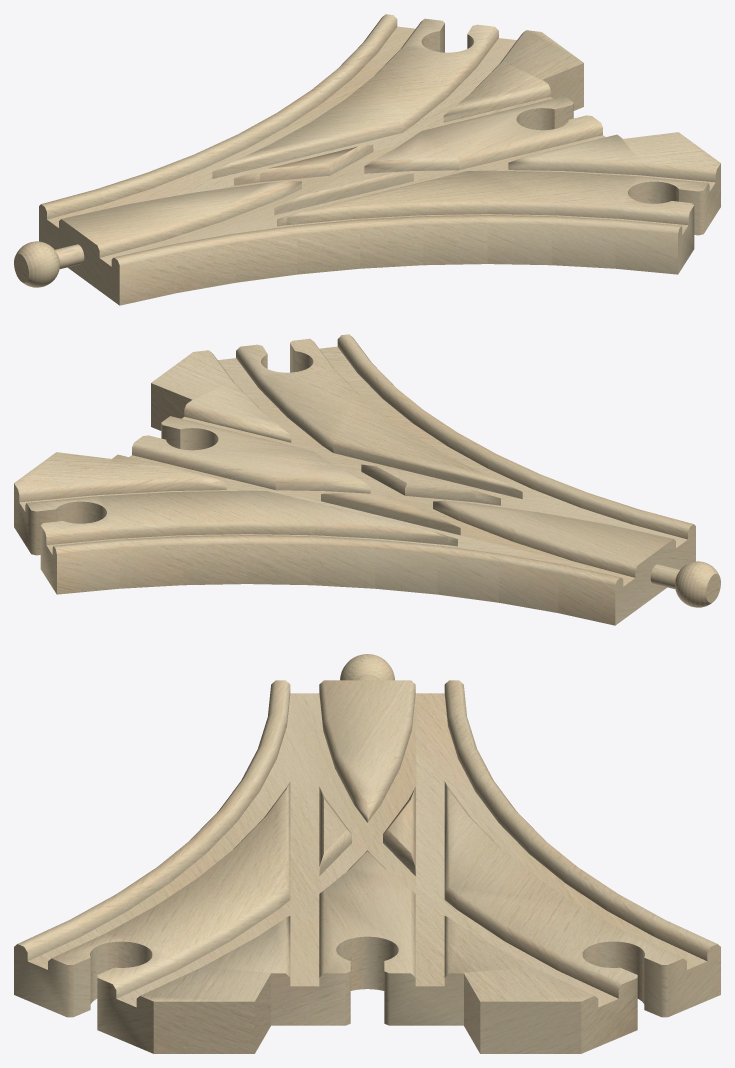
3 views of the same model, one above another, from view 1: azimuth 30°, elevation 25°; view 2: azimuth 150°, elevation 25°; view 3: azimuth 270°, elevation 25° (orthographic). The views are drawn at different scales.
Parts seen in each view (by area): view 1: SketchUp (×3), _3d_peg; view 2: SketchUp (×3), _3d_peg; view 3: SketchUp (×3), _3d_peg.
Boxes of the visible parts, x1,y1,x2,y2 form: SketchUp (×3): (39, 14, 720, 305); _3d_peg: (14, 241, 84, 287); SketchUp (×3): (14, 334, 695, 625); _3d_peg: (650, 561, 720, 607); SketchUp (×3): (14, 680, 720, 1053); _3d_peg: (340, 654, 394, 680).
Bounding box in the file's own units: 6.87 × 5.78 × 0.4724.
